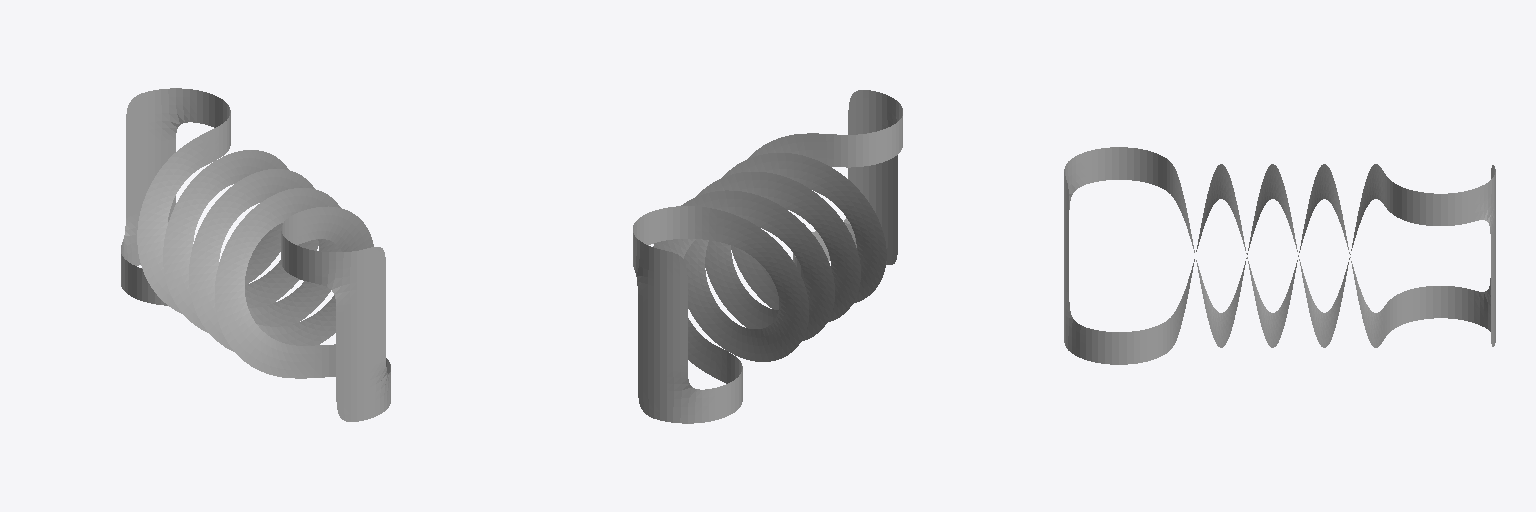
Rendered from lampD-sub2.obj.
3 views of the same model, side by side, from view 1: azimuth 30°, elevation 25°; view 2: azimuth 150°, elevation 25°; view 3: azimuth 270°, elevation 25° (orthographic).
Parts seen in each view (by area): view 1: Plane.005_Plane.003; view 2: Plane.005_Plane.003; view 3: Plane.005_Plane.003.
Part boxes in pixels (left/top/right/bottom): Plane.005_Plane.003: left=121, top=88, right=390, bottom=421; Plane.005_Plane.003: left=633, top=90, right=902, bottom=423; Plane.005_Plane.003: left=1064, top=147, right=1495, bottom=364.
Bounding box in the file's own units: 4.46 × 4.58 × 10.46.